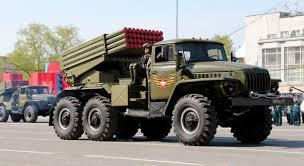MIL_SAM_TEL: (55, 23, 285, 144), (0, 79, 55, 124)
